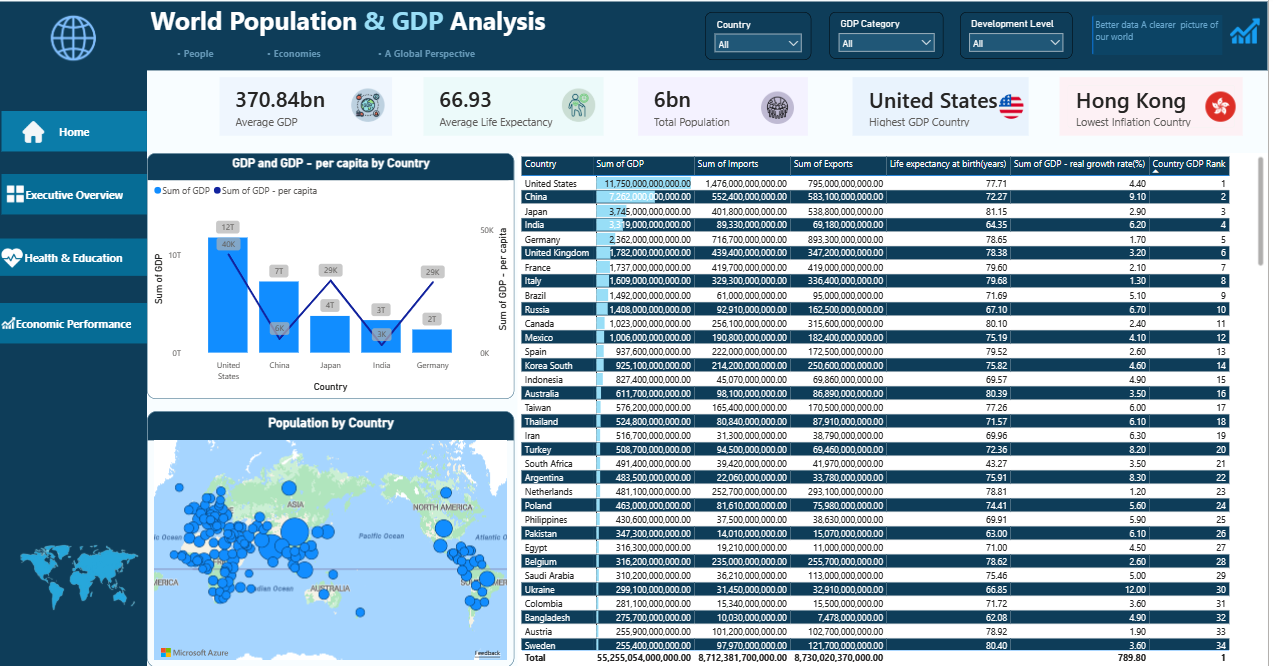

Layout of this report page (visuals, bound fields, positions):
{"tool":"powerbi","page":{"name":"Executive Overview","canvas":[1900,1000],"ordinal":1},"visuals":[{"type":"shape","box":[0,2.2,220.4,998.5],"z":0},{"type":"shape","box":[220.4,2.2,1679.9,103.5],"z":1000},{"type":"image","box":[0,4.5,220.3,105.6],"z":2000},{"type":"textbox","box":[220.3,0,658.6,76.4],"z":3000},{"type":"textbox","box":[1637.5,22.5,195,60],"z":4000},{"type":"shape","box":[1546.4,24.7,182.1,56.2],"z":5000},{"type":"image","box":[1844.4,11.1,45,69.7],"z":6000},{"type":"textbox","box":[249.5,65.2,110.1,31.5],"z":10000},{"type":"textbox","box":[384.3,65.2,148.3,29.2],"z":11000},{"type":"textbox","box":[550.7,65.2,204.5,42.7],"z":12000},{"type":"cardVisual","fields":{"Data":["Table Measure.Average GDP"]},"box":[323.7,110.1,269.7,98.9],"z":13000},{"type":"cardVisual","fields":{"Data":["Table Measure.Average Life Expectancy"]},"box":[629.3,110.1,281,98.9],"z":14000},{"type":"cardVisual","fields":{"Data":["Table Measure.Total Population"]},"box":[950.8,110.1,265.2,98.9],"z":15000},{"type":"cardVisual","fields":{"Data":["Table Measure.Highest GDP Country"]},"box":[1272.2,110.1,274.2,98.9],"z":16000},{"type":"cardVisual","fields":{"Data":["Table Measure.Lowest Inflation Country"]},"box":[1582.3,110.1,285.5,98.9],"z":17000},{"type":"lineClusteredColumnComboChart","title":"GDP and  GDP - per capita by Country","fields":{"Category":["Country Data Comparison.Country"],"Y":["Sum(Country Data Comparison.GDP)"],"Y2":["Sum(Country Data Comparison.GDP - per capita)"]},"box":[220.3,229.3,550.7,368.6],"z":18000},{"type":"azureMap","title":" Population by Country","fields":{"Category":["Country Data Comparison.Country"],"Size":["Sum(Country Data Comparison.Population)"],"Value":["Sum(Country Data Comparison.Population)"]},"box":[220.3,615.9,550.7,384.3],"z":19000},{"type":"tableEx","fields":{"Values":["Country Data Comparison.Country","Sum(Country Data Comparison.GDP)","Sum(Country Data Comparison.Imports)","Sum(Country Data Comparison.Exports)","Country Data Comparison.Life expectancy at birth(years)","Sum(Country Data Comparison.GDP - real growth rate(%))","Table Measure.Country GDP Rank"]},"box":[775.4,229.3,1123.8,770.9],"z":20000},{"type":"slicer","fields":{"Values":["Country Data Comparison.Country"]},"box":[1056.4,18,159.6,71.9],"z":21000},{"type":"slicer","fields":{"Values":["Country Data Comparison.GDP Category "]},"box":[1242.9,18,170.8,69.7],"z":22000},{"type":"slicer","fields":{"Values":["Country Data Comparison.Development Level"]},"box":[1438.5,18,168.6,69.7],"z":23000},{"type":"image","box":[1497.3,121.8,36.4,76.4],"z":24000},{"type":"image","box":[1769.1,137.3,120,45],"z":25000},{"type":"image","box":[1136.2,137.5,60,48.8],"z":26000},{"type":"image","box":[840,133.3,52.2,50],"z":27000},{"type":"image","box":[516.7,133.3,68.9,50],"z":28000},{"type":"actionButton","box":[2.2,260.9,218.1,60.7],"z":29001},{"type":"actionButton","box":[0,357.6,220.4,56.2],"z":29002},{"type":"actionButton","box":[0,454.3,220.4,60.7],"z":29003},{"type":"actionButton","box":[2.2,166.4,218.1,60.7],"z":29004},{"type":"image","box":[34.2,164.2,32.5,67.5],"z":29005},{"type":"image","box":[2.5,368.3,31.7,35.8],"z":29006},{"type":"image","box":[2.2,272.1,41.7,37.5],"z":29007},{"type":"image","box":[2.3,470.8,20.8,29.2],"z":29008},{"type":"image","box":[0,733.2,240.6,265.4],"z":29009}]}

Visuals, with their boxes on the page's 1900x1000 design canvas (x1, y1, x2, y2). These are canvas units, not pixel positions in the 1273x666 screenshot, which may show the page scaled, cropped or inside an application window:
shape: 0/2/220/1001
shape: 220/2/1900/106
image: 0/4/220/110
textbox: 220/0/879/76
textbox: 1638/22/1832/82
shape: 1546/25/1728/81
image: 1844/11/1889/81
textbox: 250/65/360/97
textbox: 384/65/533/94
textbox: 551/65/755/108
cardVisual - Table Measure.Average GDP: 324/110/593/209
cardVisual - Table Measure.Average Life Expectancy: 629/110/910/209
cardVisual - Table Measure.Total Population: 951/110/1216/209
cardVisual - Table Measure.Highest GDP Country: 1272/110/1546/209
cardVisual - Table Measure.Lowest Inflation Country: 1582/110/1868/209
"GDP and  GDP - per capita by Country" lineClusteredColumnComboChart: 220/229/771/598
" Population by Country" azureMap: 220/616/771/1000
tableEx - Country Data Comparison.Country x Sum(Country Data Comparison.GDP): 775/229/1899/1000
slicer - Country Data Comparison.Country: 1056/18/1216/90
slicer - Country Data Comparison.GDP Category : 1243/18/1414/88
slicer - Country Data Comparison.Development Level: 1438/18/1607/88
image: 1497/122/1534/198
image: 1769/137/1889/182
image: 1136/138/1196/186
image: 840/133/892/183
image: 517/133/586/183
actionButton: 2/261/220/322
actionButton: 0/358/220/414
actionButton: 0/454/220/515
actionButton: 2/166/220/227
image: 34/164/67/232
image: 2/368/34/404
image: 2/272/44/310
image: 2/471/23/500
image: 0/733/241/999
